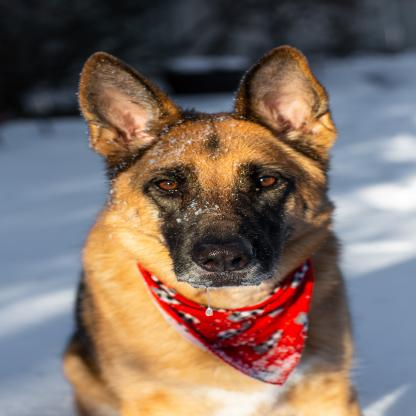german shepherd: (61, 46, 357, 416)
